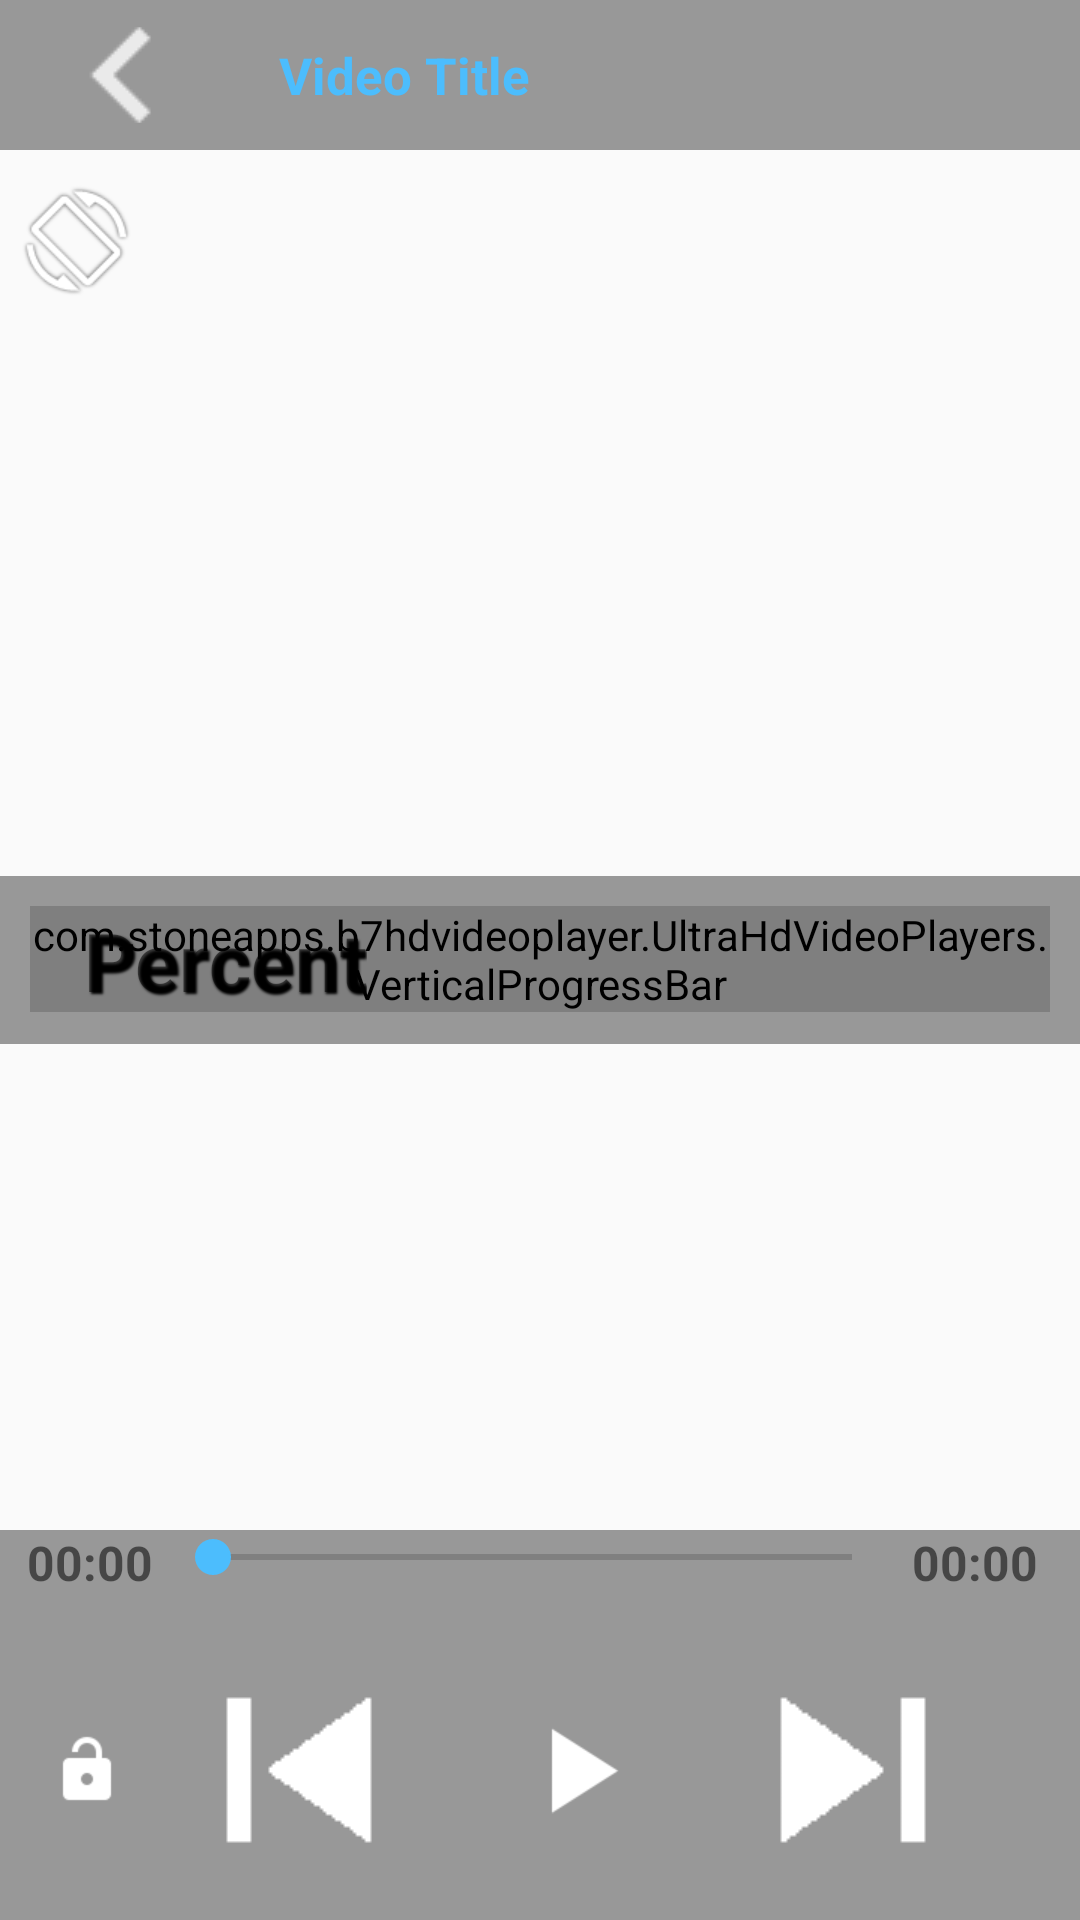

Where to tap for icons on this 1080×1920 app screen, as point (x, y):
back: point (121, 75)
lock open: point (87, 1768)
next: point (853, 1770)
play: point (585, 1771)
previous: point (299, 1770)
rotation: point (76, 241)
